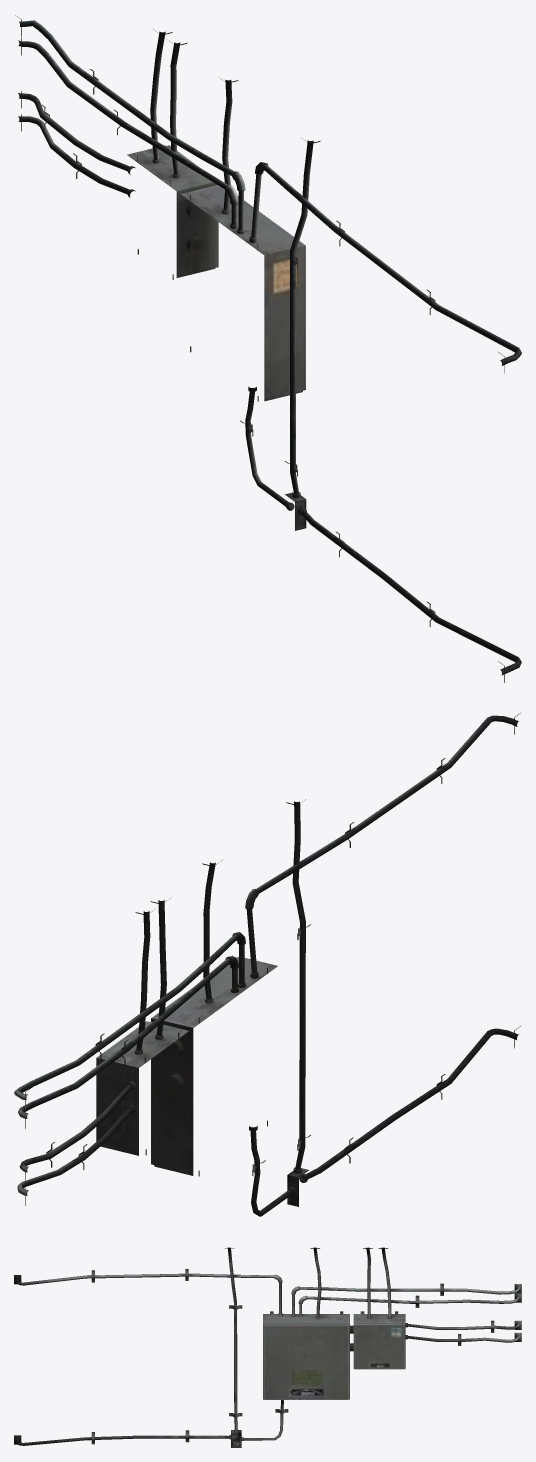
Rendered from electricalbox02.glb.
The picture shows the model from 3 angles, top to bottom: view 1: azimuth 30°, elevation 25°; view 2: azimuth 150°, elevation 25°; view 3: azimuth 270°, elevation 25°; orthographic projection. The views are drawn at different scales.
Visible parts, largest first — view 1: 0_ElectricalBox02; view 2: 0_ElectricalBox02; view 3: 0_ElectricalBox02.
Boxes of the visible parts, left/top/right/bottom form: 0_ElectricalBox02: left=15, top=15, right=521, bottom=682; 0_ElectricalBox02: left=14, top=713, right=521, bottom=1216; 0_ElectricalBox02: left=14, top=1247, right=521, bottom=1447.
Bounding box in the file's own units: 0.3142 × 2.73 × 6.23.
Materials: 1 (1 with a texture image).
